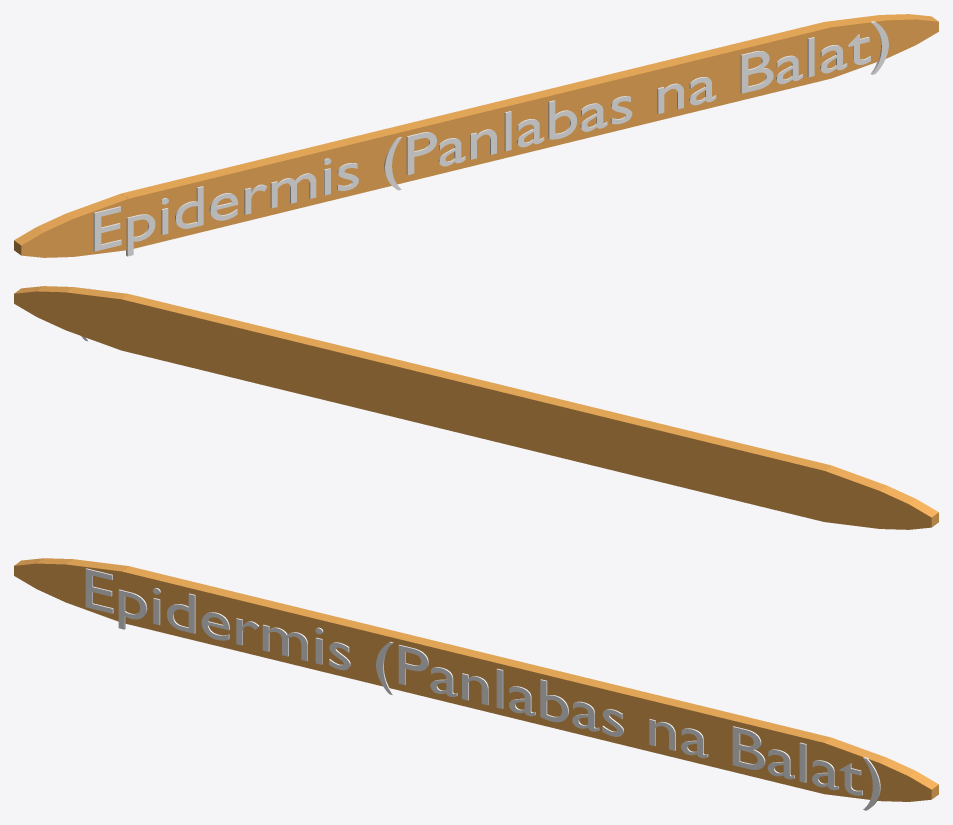
File: txtEpidermis.fbx
3 renders of one model, top to bottom at view 1: azimuth 30°, elevation 25°; view 2: azimuth 150°, elevation 25°; view 3: azimuth 330°, elevation 25°, orthographic.
Visible parts, largest first — view 1: TagContainer.068, Text.069; view 2: TagContainer.068; view 3: TagContainer.068, Text.069.
Part boxes in pixels (x1,y1,x2,y2): TagContainer.068: (14,14,938,257); Text.069: (93,21,888,256); TagContainer.068: (14,286,938,529); TagContainer.068: (14,558,938,801); Text.069: (85,568,880,810).
Bounding box in the file's own units: 773 × 45.66 × 11.92.
